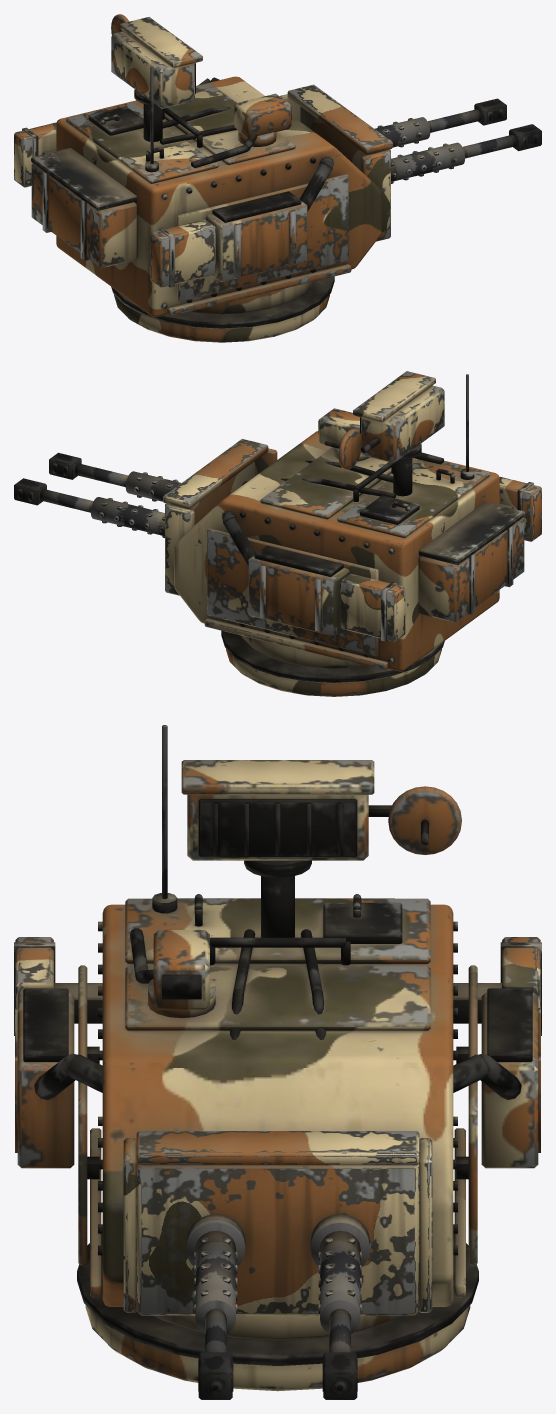
Rendered from turret_grach_evo.glb.
3 views of the same model, one above another, from view 1: azimuth 30°, elevation 25°; view 2: azimuth 150°, elevation 25°; view 3: azimuth 270°, elevation 25° (orthographic). The views are drawn at different scales.
Visible parts, largest first — view 1: turret_light_evo, guns, pods; view 2: turret_light_evo, guns, pods; view 3: turret_light_evo, guns, pods.
Boxes of the visible parts, x1,y1,x2,y2 form: turret_light_evo: (31,14,381,342); guns: (280,84,541,241); pods: (14,122,215,287); turret_light_evo: (174,371,524,696); guns: (14,439,277,595); pods: (340,476,541,641); turret_light_evo: (15,725,540,1391); guns: (123,1131,432,1399); pods: (14,937,541,1035).
Bounding box in the file's own units: 1.86 × 1.09 × 1.05.
3 materials, 3 textured.
